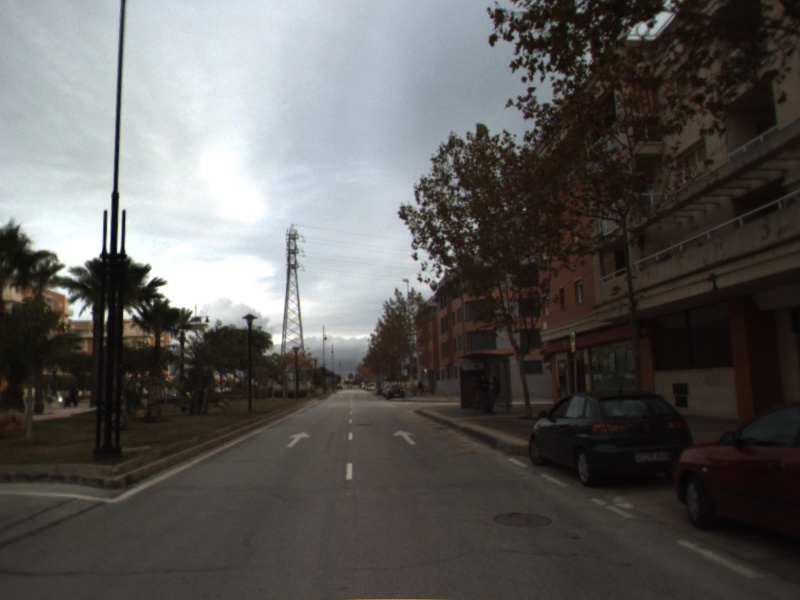STRAIGHT: (284, 429, 312, 449), (391, 428, 419, 447)
